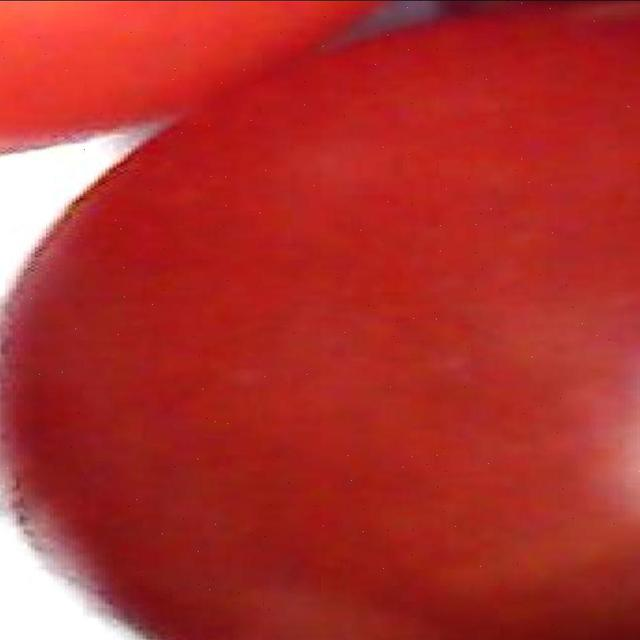Healthy Fruit: (0, 5, 427, 427)
